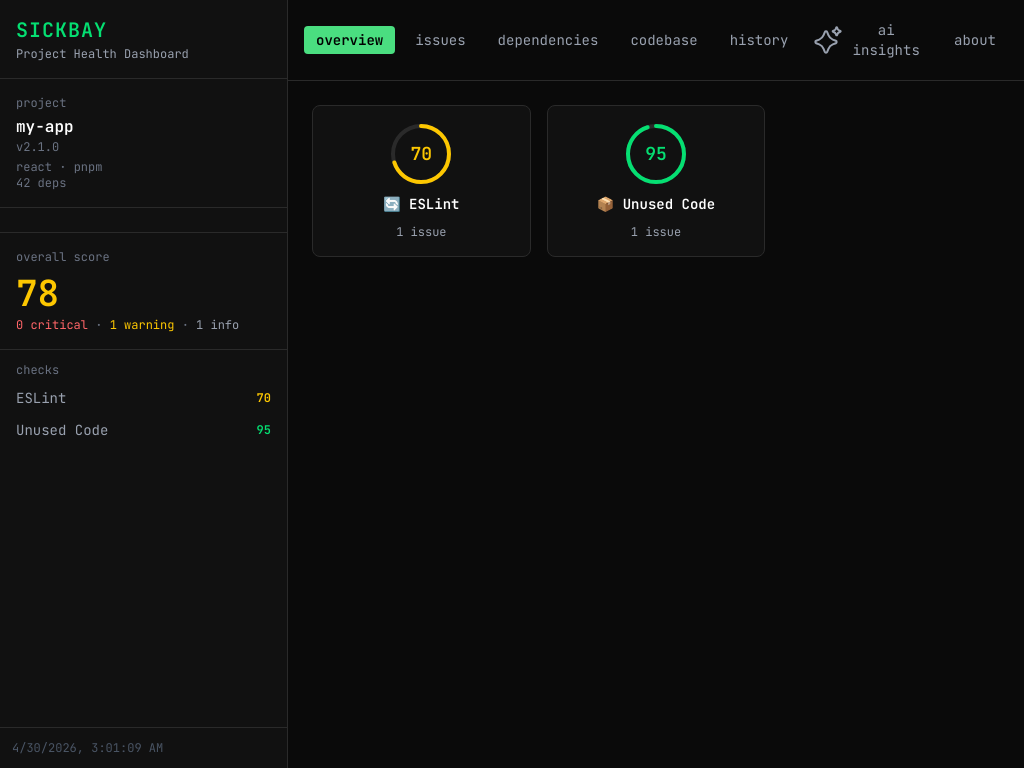
Test: Dashboard › filters the issues view to the selected check when a sidebar check is clicked
Click the text "ESLint". click: (41, 398)
box: x1=16 y1=388 x2=66 y2=408
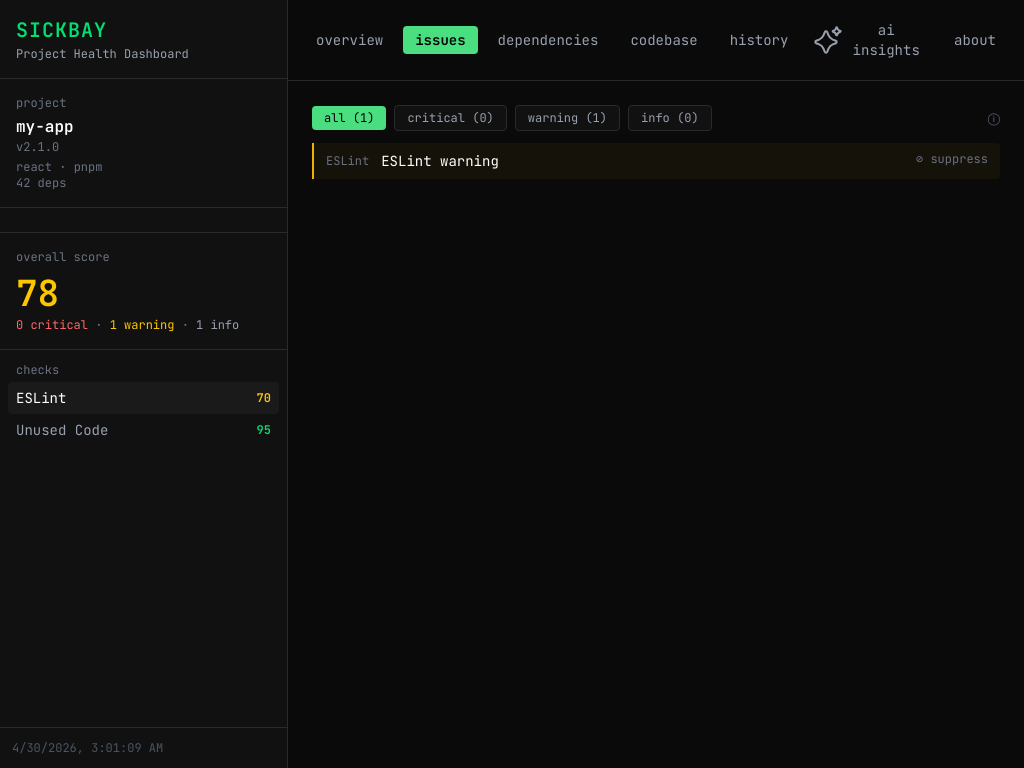
Now the text "ESLint warning" is shown, box x1=381 y1=152 x2=499 y2=170
